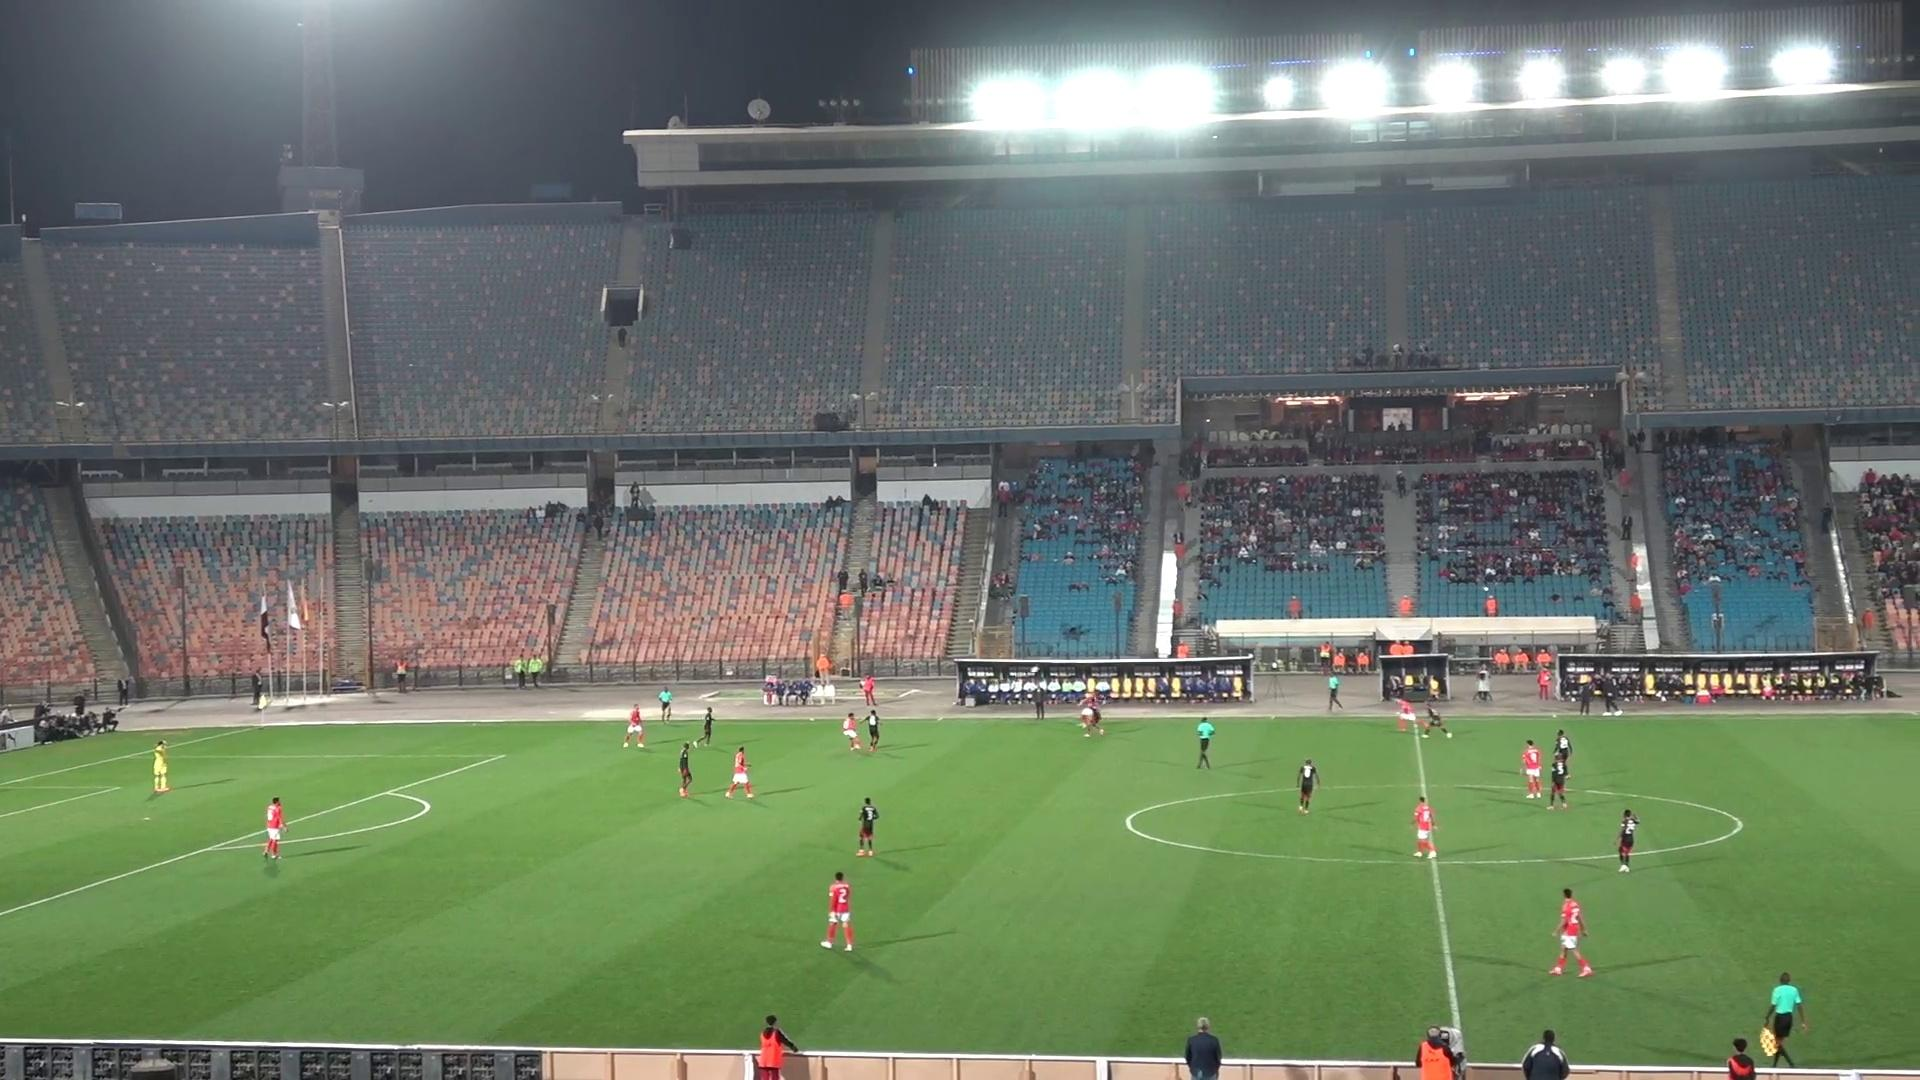GK1: (150, 738, 171, 796)
Refree: (1756, 972, 1807, 1064), (1196, 716, 1216, 769), (655, 690, 674, 721)
Team1: (1548, 887, 1593, 976), (822, 872, 855, 951), (1411, 795, 1437, 857), (724, 746, 756, 798), (1520, 740, 1545, 799), (264, 796, 287, 858), (840, 711, 877, 750), (1391, 695, 1420, 732), (622, 704, 645, 746)
Team2: (1540, 752, 1571, 808), (1615, 810, 1640, 872), (856, 798, 880, 856), (851, 708, 882, 752), (1295, 758, 1319, 814), (1077, 691, 1105, 735), (676, 742, 696, 799), (1552, 731, 1573, 775)
